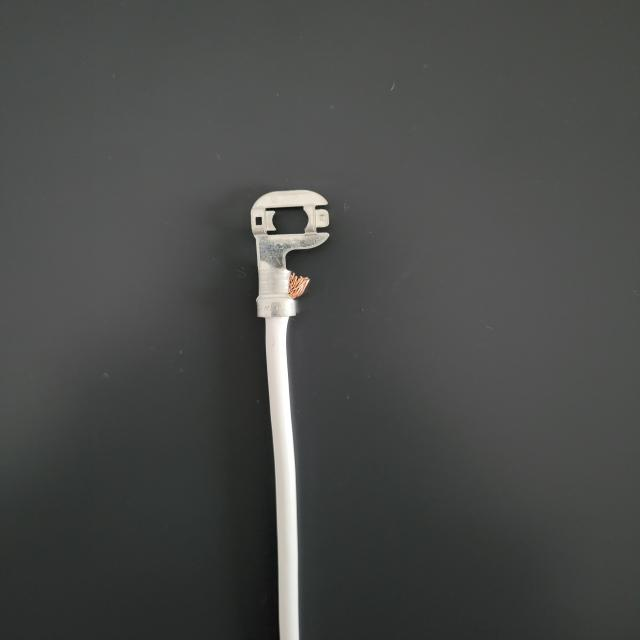defect: (228, 253, 334, 366)
